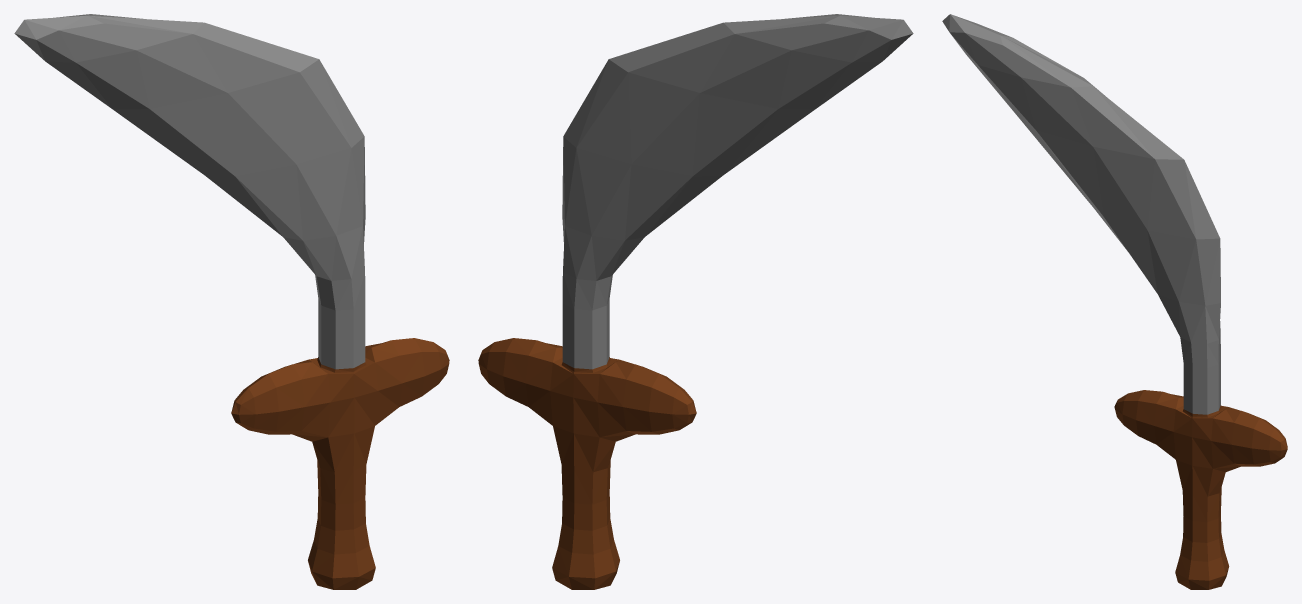
The model's file is Saber.fbx.
3 views of the same model, side by side, from view 1: azimuth 30°, elevation 25°; view 2: azimuth 150°, elevation 25°; view 3: azimuth 330°, elevation 25° (orthographic). The views are drawn at different scales.
Parts seen in each view (by area): view 1: Cube; view 2: Cube; view 3: Cube.
Part boxes in pixels (bbox=[...]): Cube: bbox=[14, 14, 449, 589]; Cube: bbox=[478, 14, 913, 589]; Cube: bbox=[942, 14, 1287, 589].
Size of the model in its own units: 1940 by 2739 by 267.
